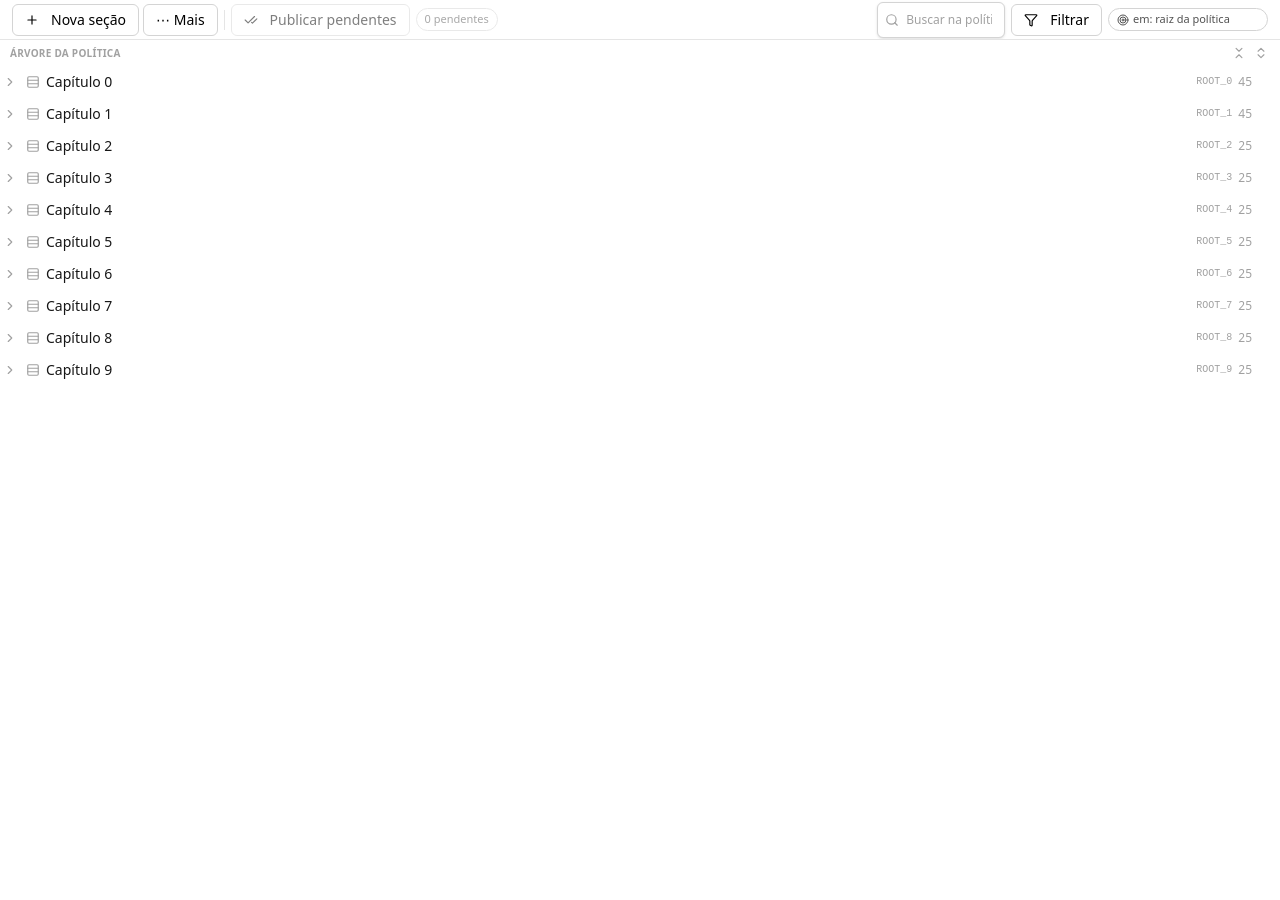
Test case: PolicyTree — ~300 componentes em 4 níveis (docs/prompts/S33a) › expande, busca e filtra sem travar
Click the button named "Expandir Capítulo 0". click: click(10, 82)
box: [0,72,20,92]
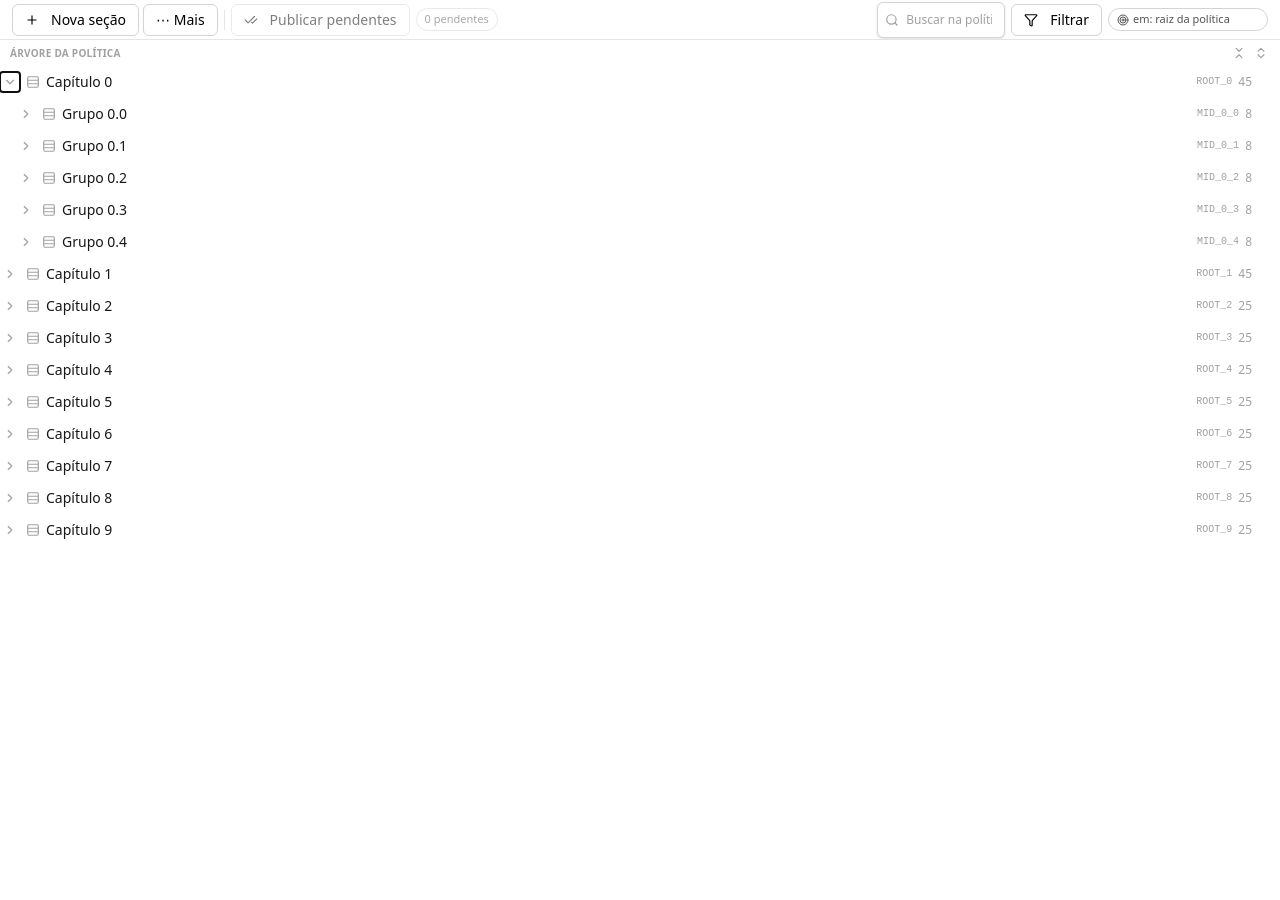
Result: the list item with test id "tree-node-MID_0_0" is shown at [0,98,1279,130]
# Buscar por um nó de nível 4 devolve só o caminho até ele.
Type "Regra 0.0.0" into the field named "Buscar na árvore". click: (941, 20)
box: [877,2,1005,38]
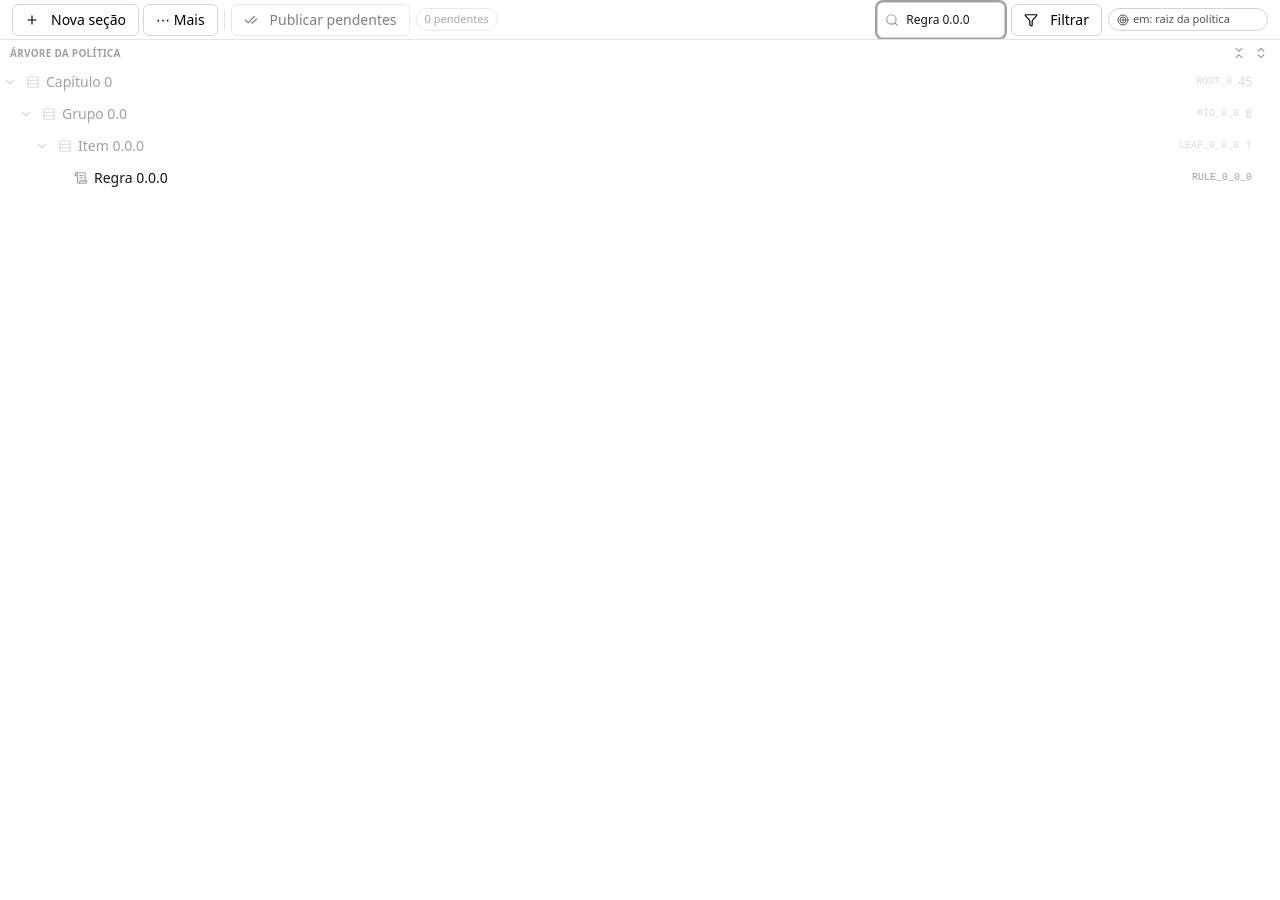
Clear the field named "Buscar na árvore". click: (941, 20)
box: [877,2,1005,38]
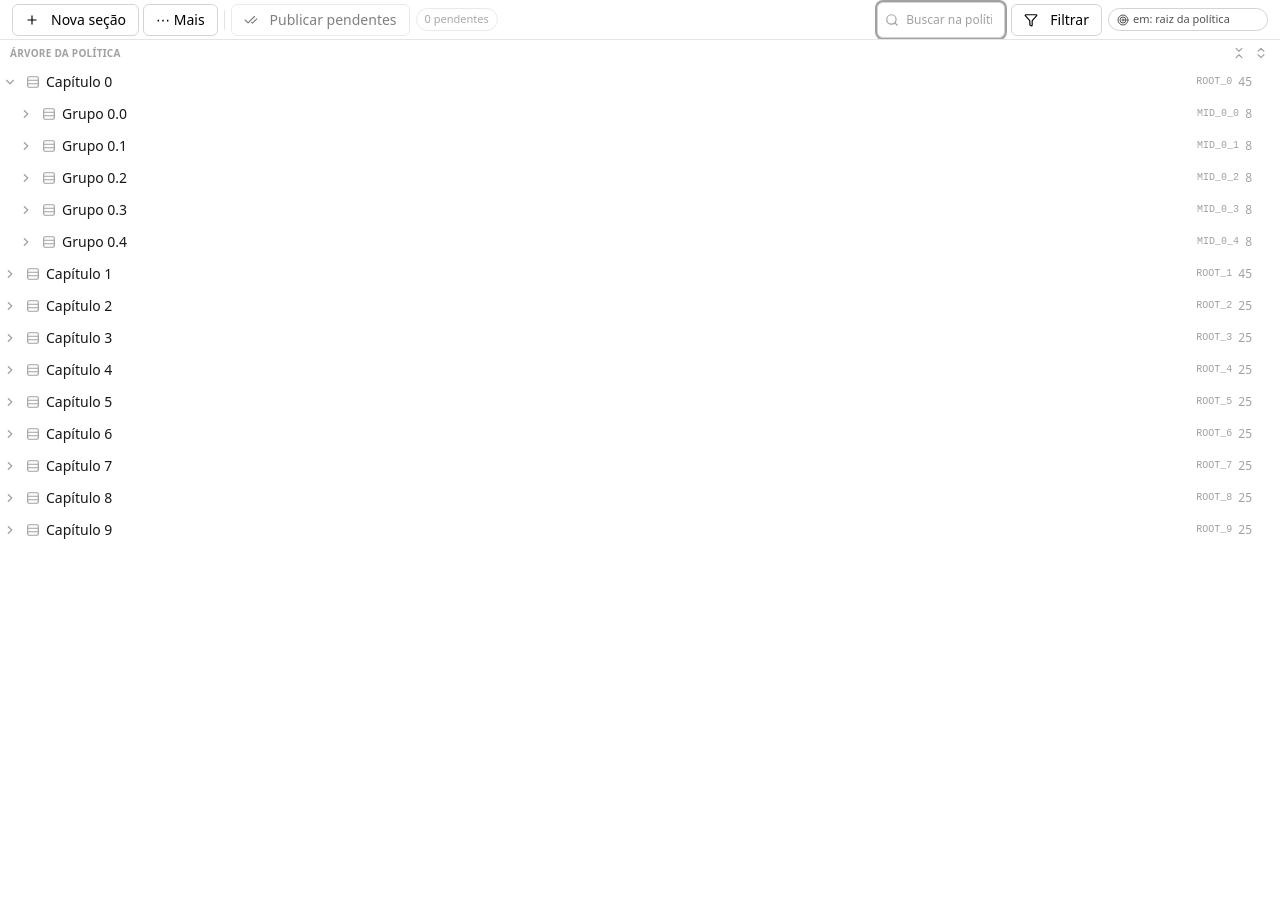
Click the button "Filtrar". click: click(1057, 20)
box: [1011,4,1102,36]
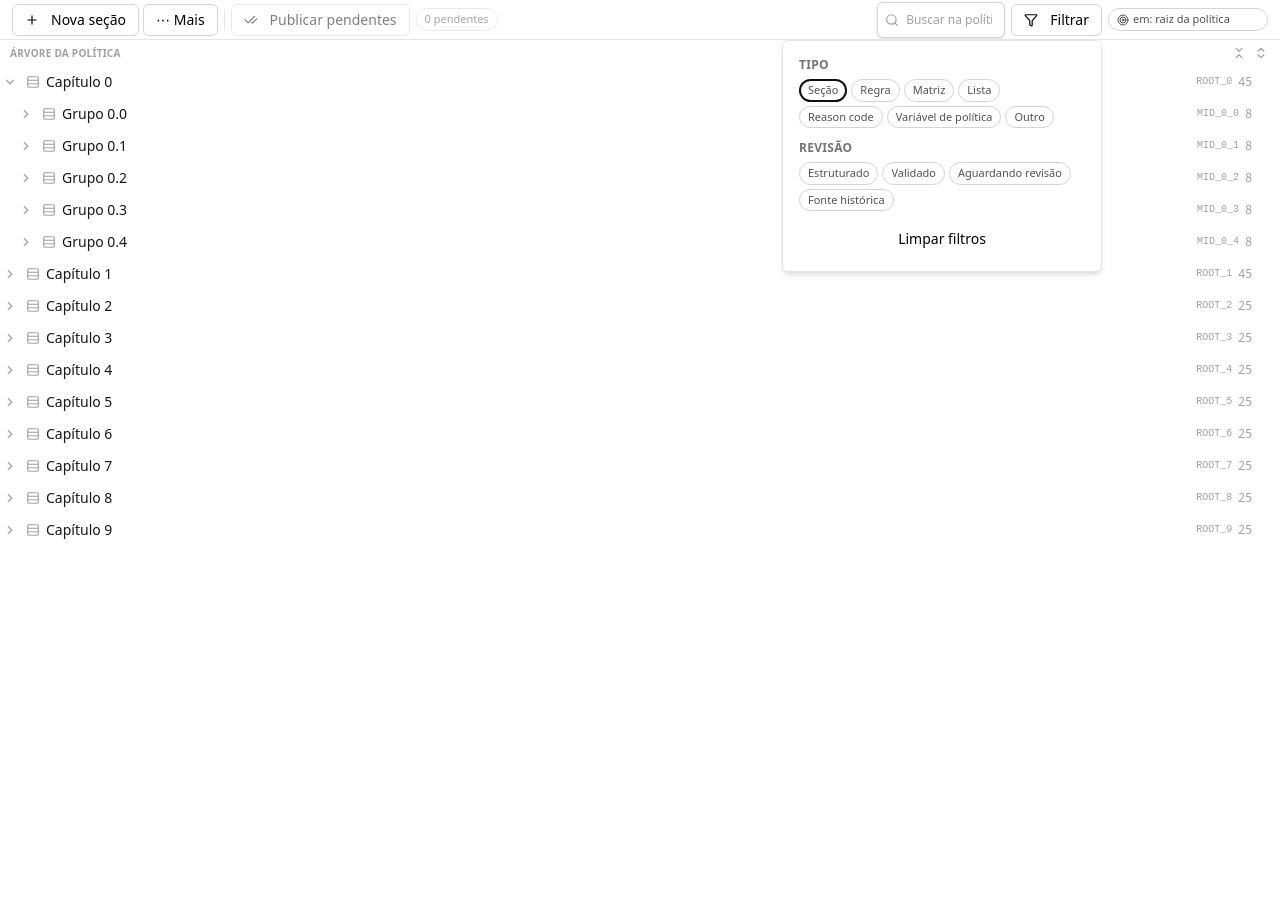
Click the button "Regra". click: click(876, 90)
box: [851,79,900,102]
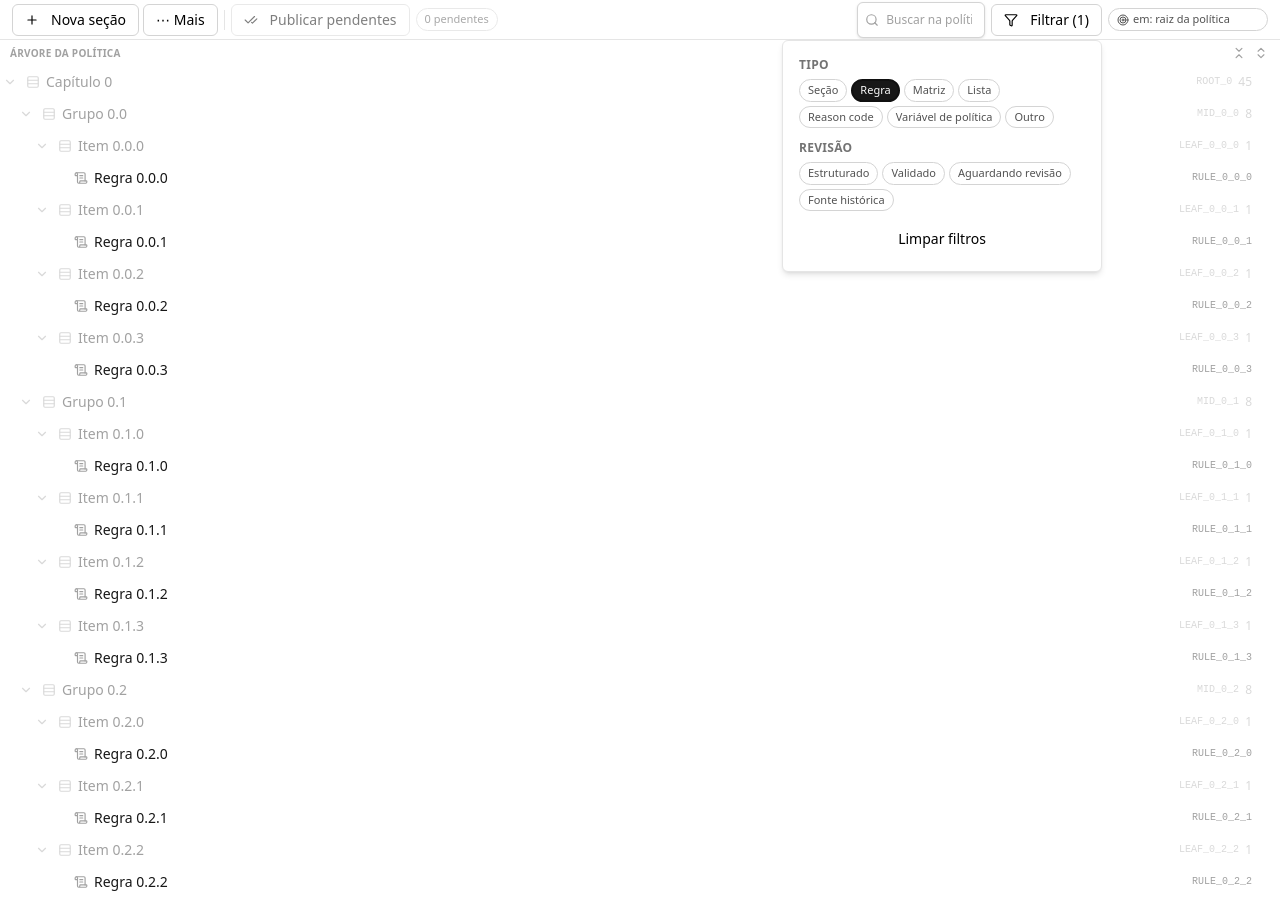
Result: the list item with test id "tree-node-ROOT_9" is gone
